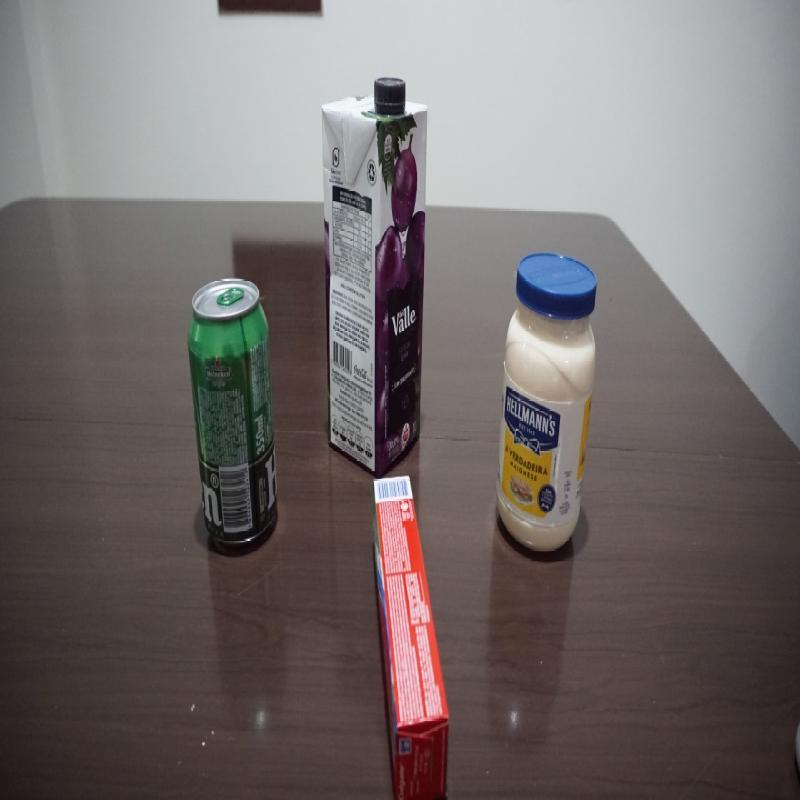Beer can: (186, 276, 279, 557)
Mayonnaise: (499, 248, 598, 556)
Toothpaste: (367, 479, 452, 790)
